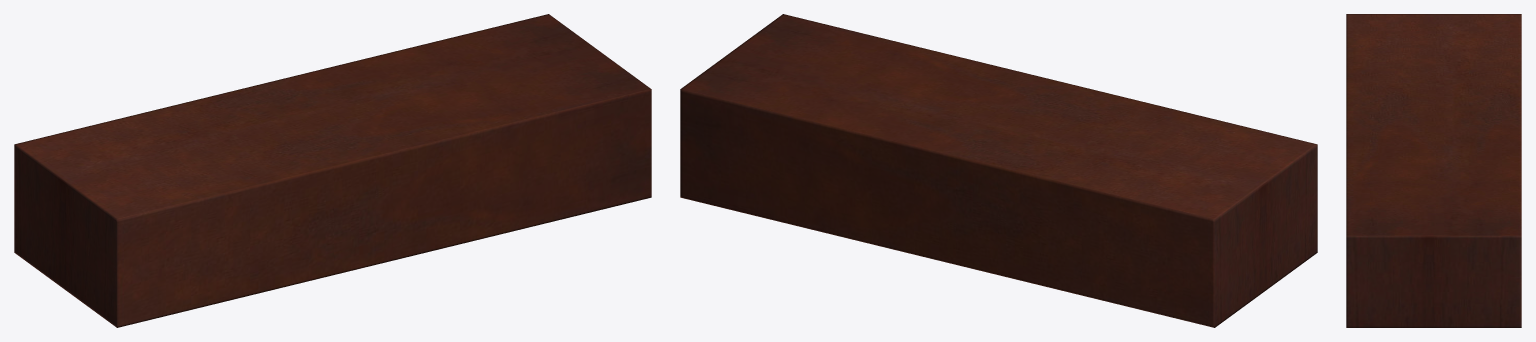
The model's file is B07B8PXSD2.glb.
3 renders of one model, left to right at view 1: azimuth 30°, elevation 25°; view 2: azimuth 150°, elevation 25°; view 3: azimuth 270°, elevation 25°, orthographic. The views are drawn at different scales.
Visible parts, largest first — view 1: RootNode; view 2: RootNode; view 3: RootNode.
Boxes of the visible parts, x1,y1,x2,y2 form: RootNode: (14, 14, 651, 327); RootNode: (680, 14, 1317, 327); RootNode: (1346, 14, 1521, 327).
Bounding box in the file's own units: 0.457 × 0.0885 × 0.1523.
Materials: 1 (1 with a texture image).
